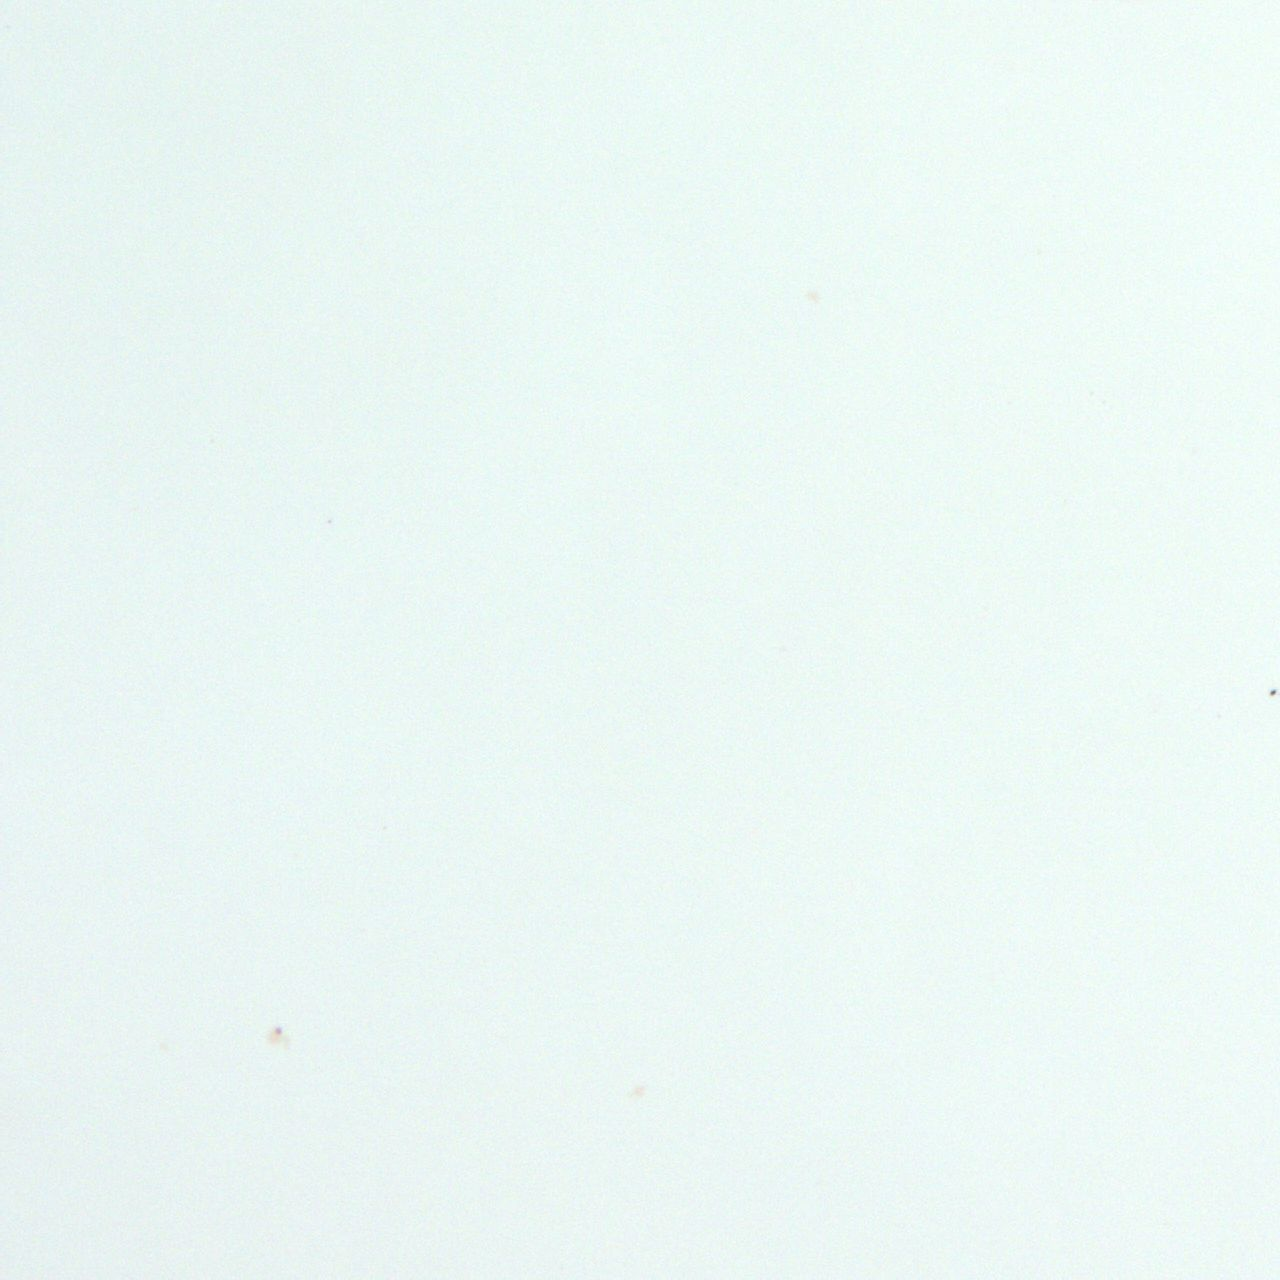dust: (268, 1023, 285, 1043), (1268, 688, 1277, 695)
